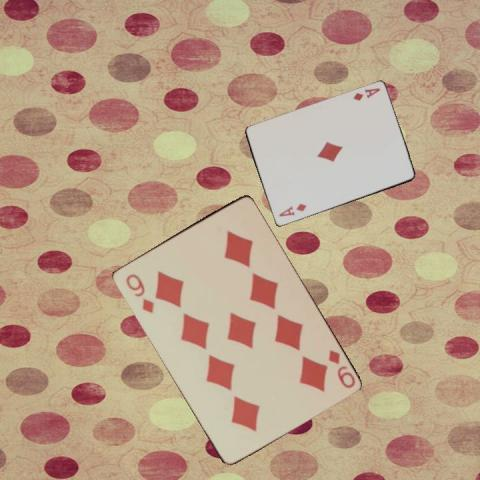9d: (122, 270, 155, 315), (324, 346, 356, 390)
Ad: (275, 201, 308, 218), (350, 85, 381, 103)
